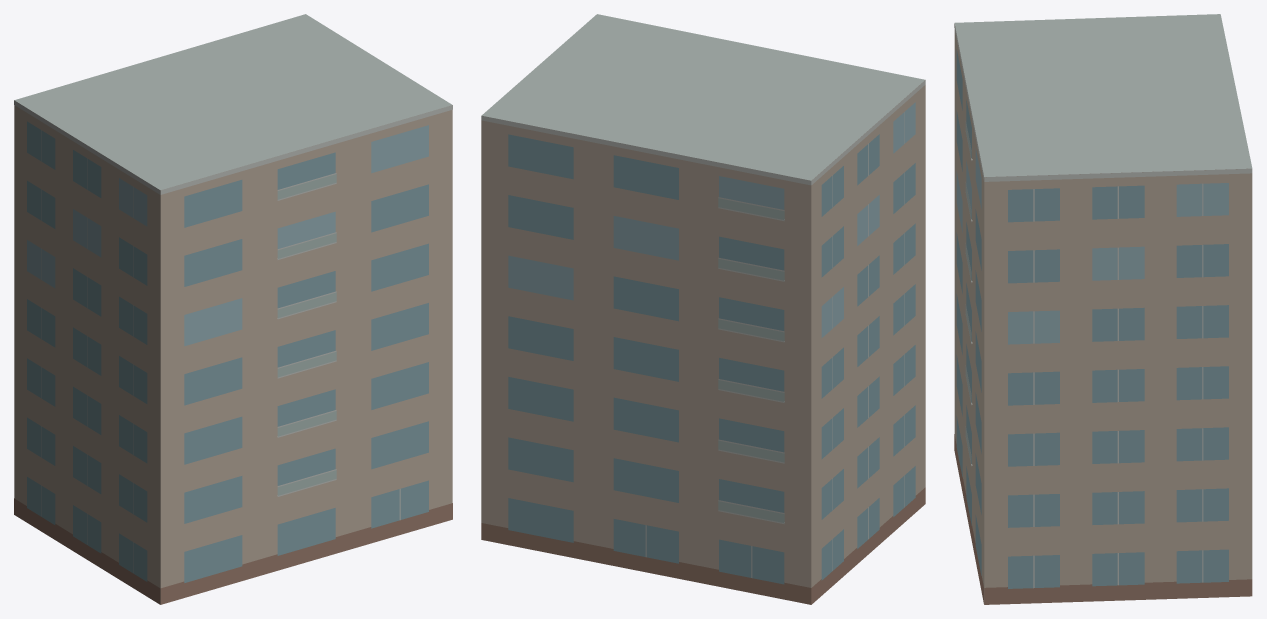
The model's file is survey-upis-32739399.glb.
3 views of the same model, side by side, from view 1: azimuth 30°, elevation 25°; view 2: azimuth 150°, elevation 25°; view 3: azimuth 270°, elevation 25° (orthographic). The views are drawn at different scales.
Parts seen in each view (by area): view 1: survey-upis-32739399.tmp; view 2: survey-upis-32739399.tmp; view 3: survey-upis-32739399.tmp.
Part boxes in pixels (bbox=[...]): survey-upis-32739399.tmp: bbox=[14, 14, 452, 604]; survey-upis-32739399.tmp: bbox=[481, 14, 925, 604]; survey-upis-32739399.tmp: bbox=[954, 14, 1252, 604].
Bounding box in the file's own units: 17.76 × 21.7 × 13.71.
